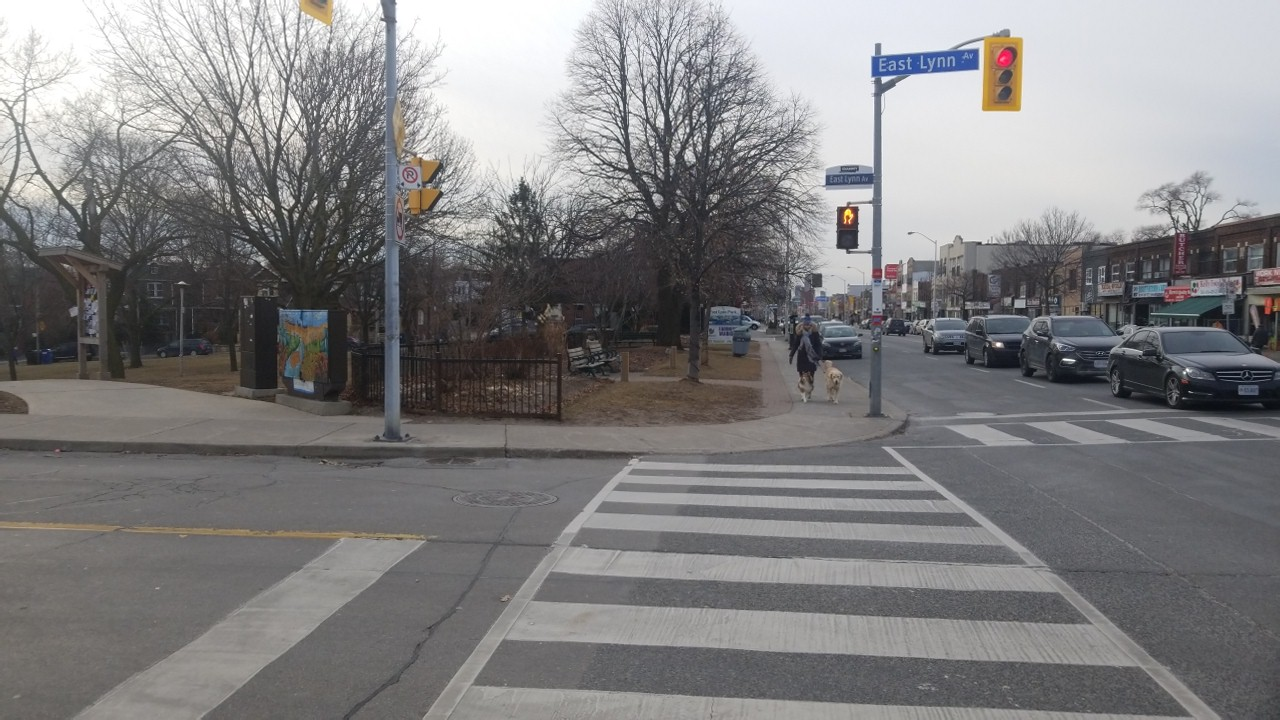light: (835, 202, 860, 251)
